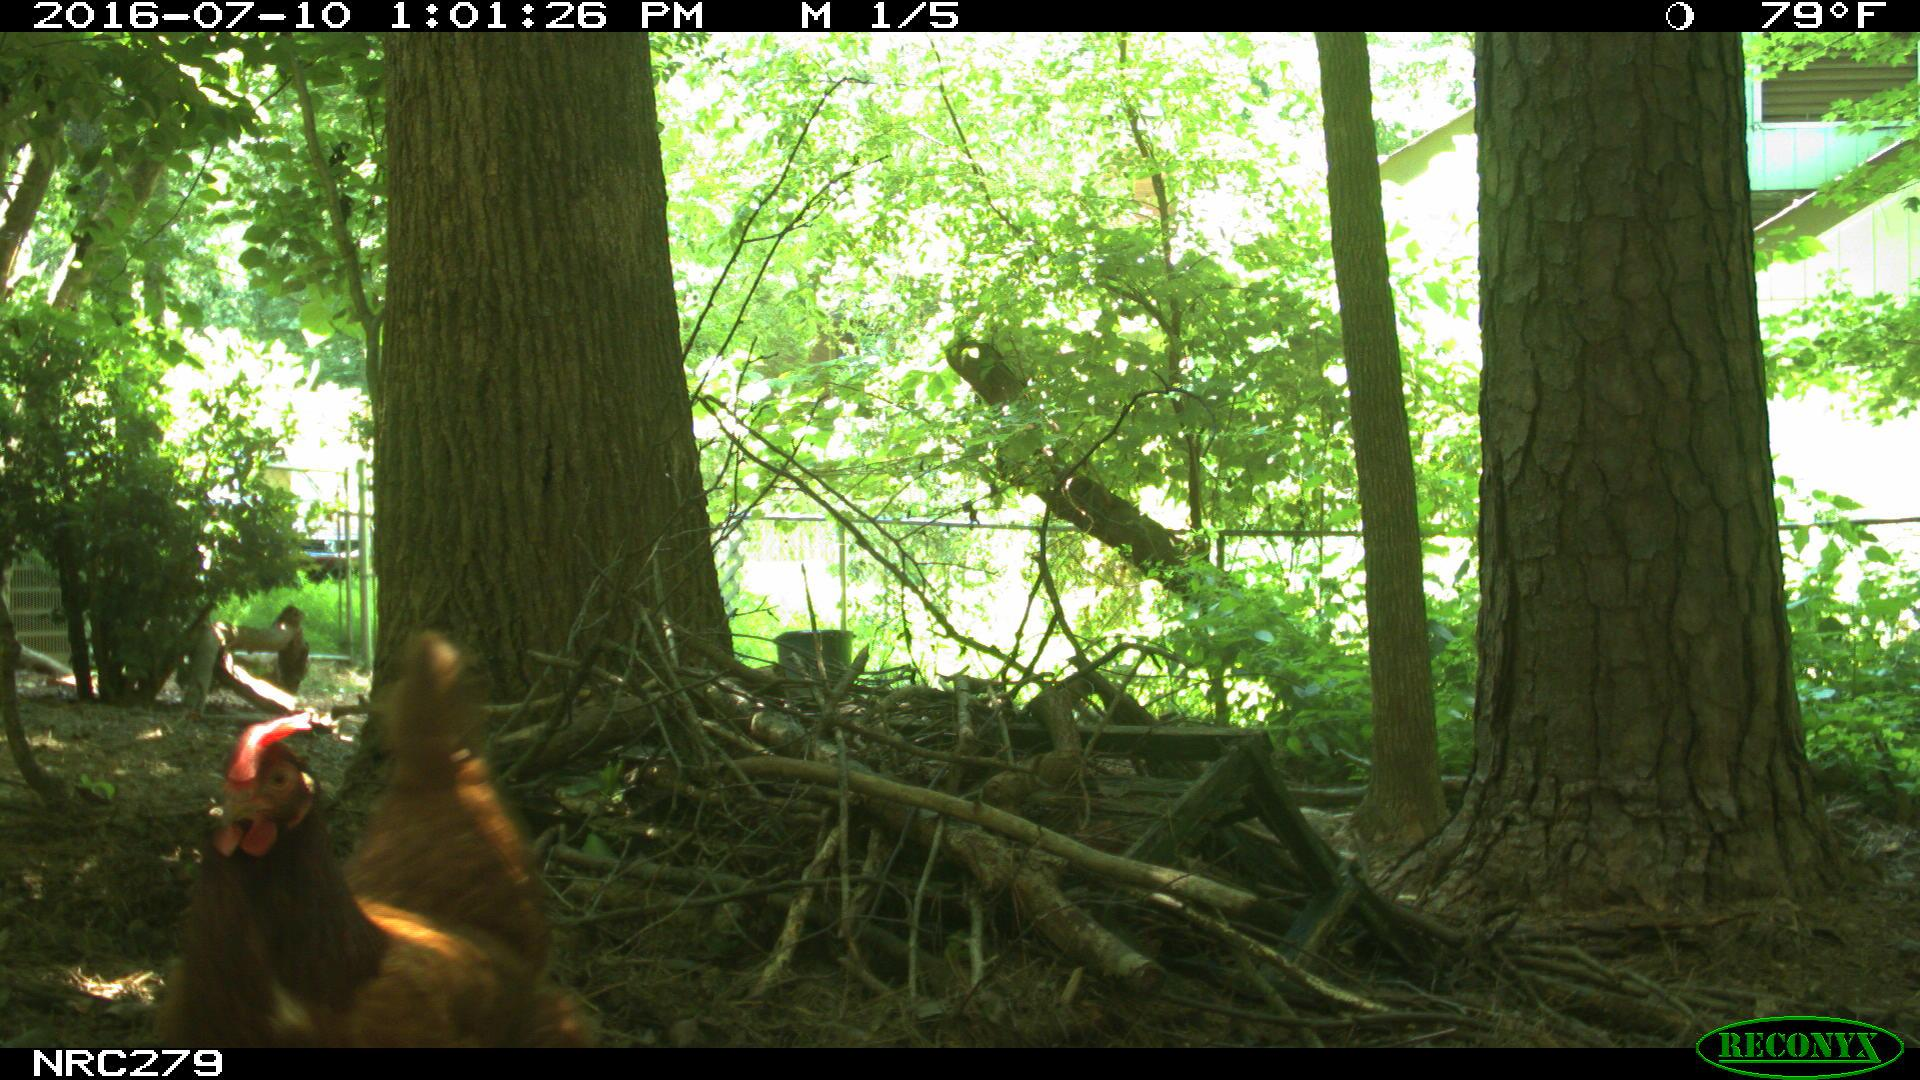Animal: (156, 626, 585, 1044)
